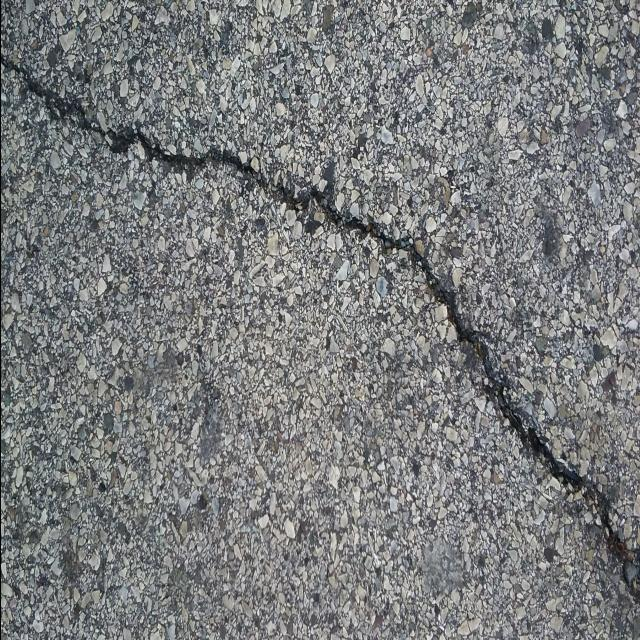Crack: (0, 55, 640, 602)
